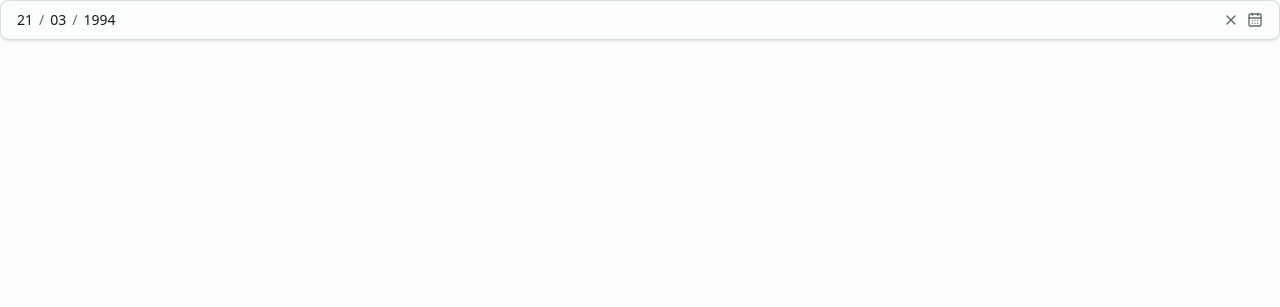
it: DateField calendar › opens on the month being edited
The image size is (1280, 307).
Click the button named "Open the calendar": (1255, 20) [1243,8,1267,32]
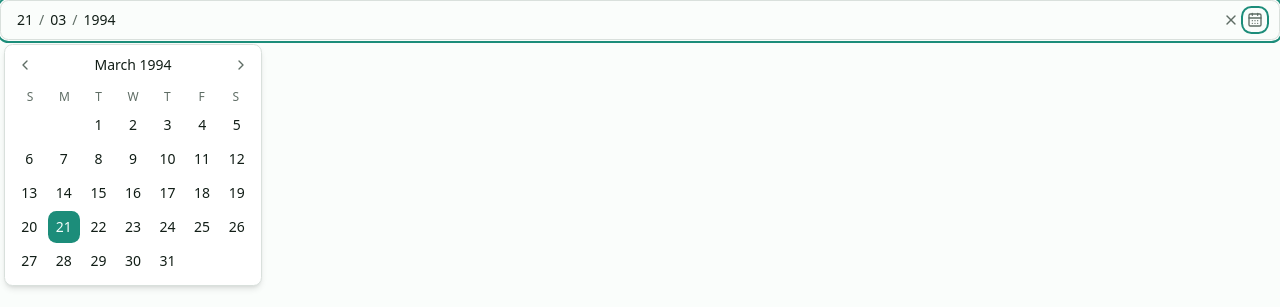
Check: the text "March 1994" is shown, box [94,55,172,75]
